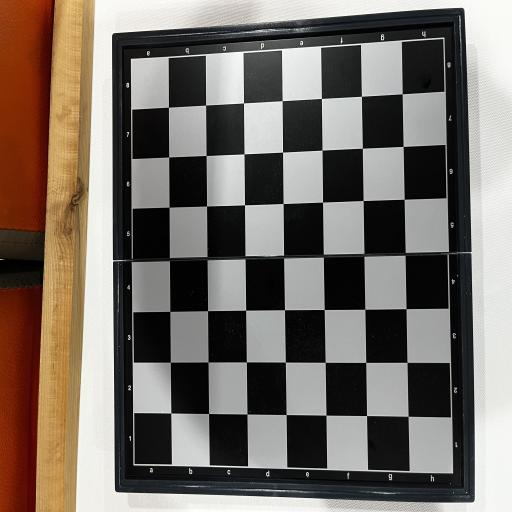Board: (112, 8, 475, 502)
